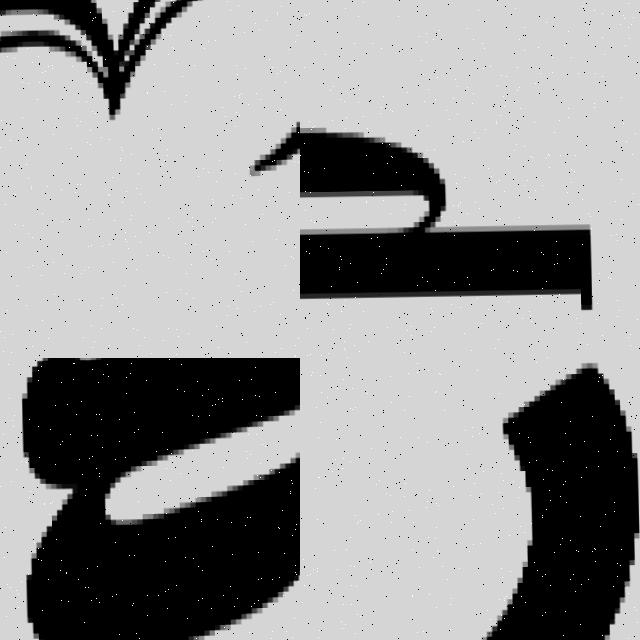3: (0, 0, 300, 342)
A: (6, 358, 300, 640)
B: (300, 125, 590, 309)
C: (482, 363, 637, 640)
